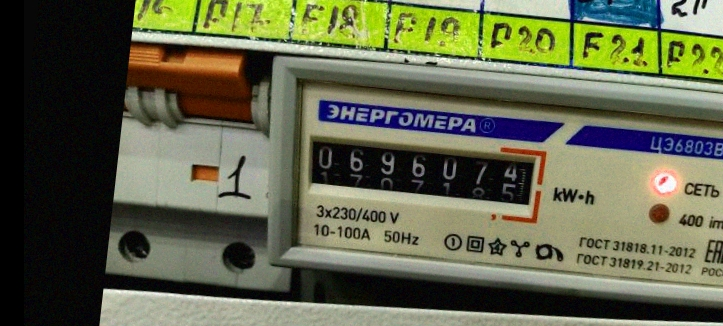0: (315, 142, 336, 169), (441, 153, 459, 181)
4: (503, 159, 519, 182)
5: (501, 181, 517, 202)
6: (346, 145, 367, 172), (410, 150, 428, 179)
7: (471, 158, 490, 185)
9: (378, 148, 397, 176)
screen: (298, 121, 551, 225)
